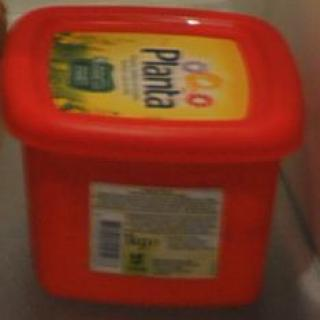butter: (0, 1, 320, 320)
